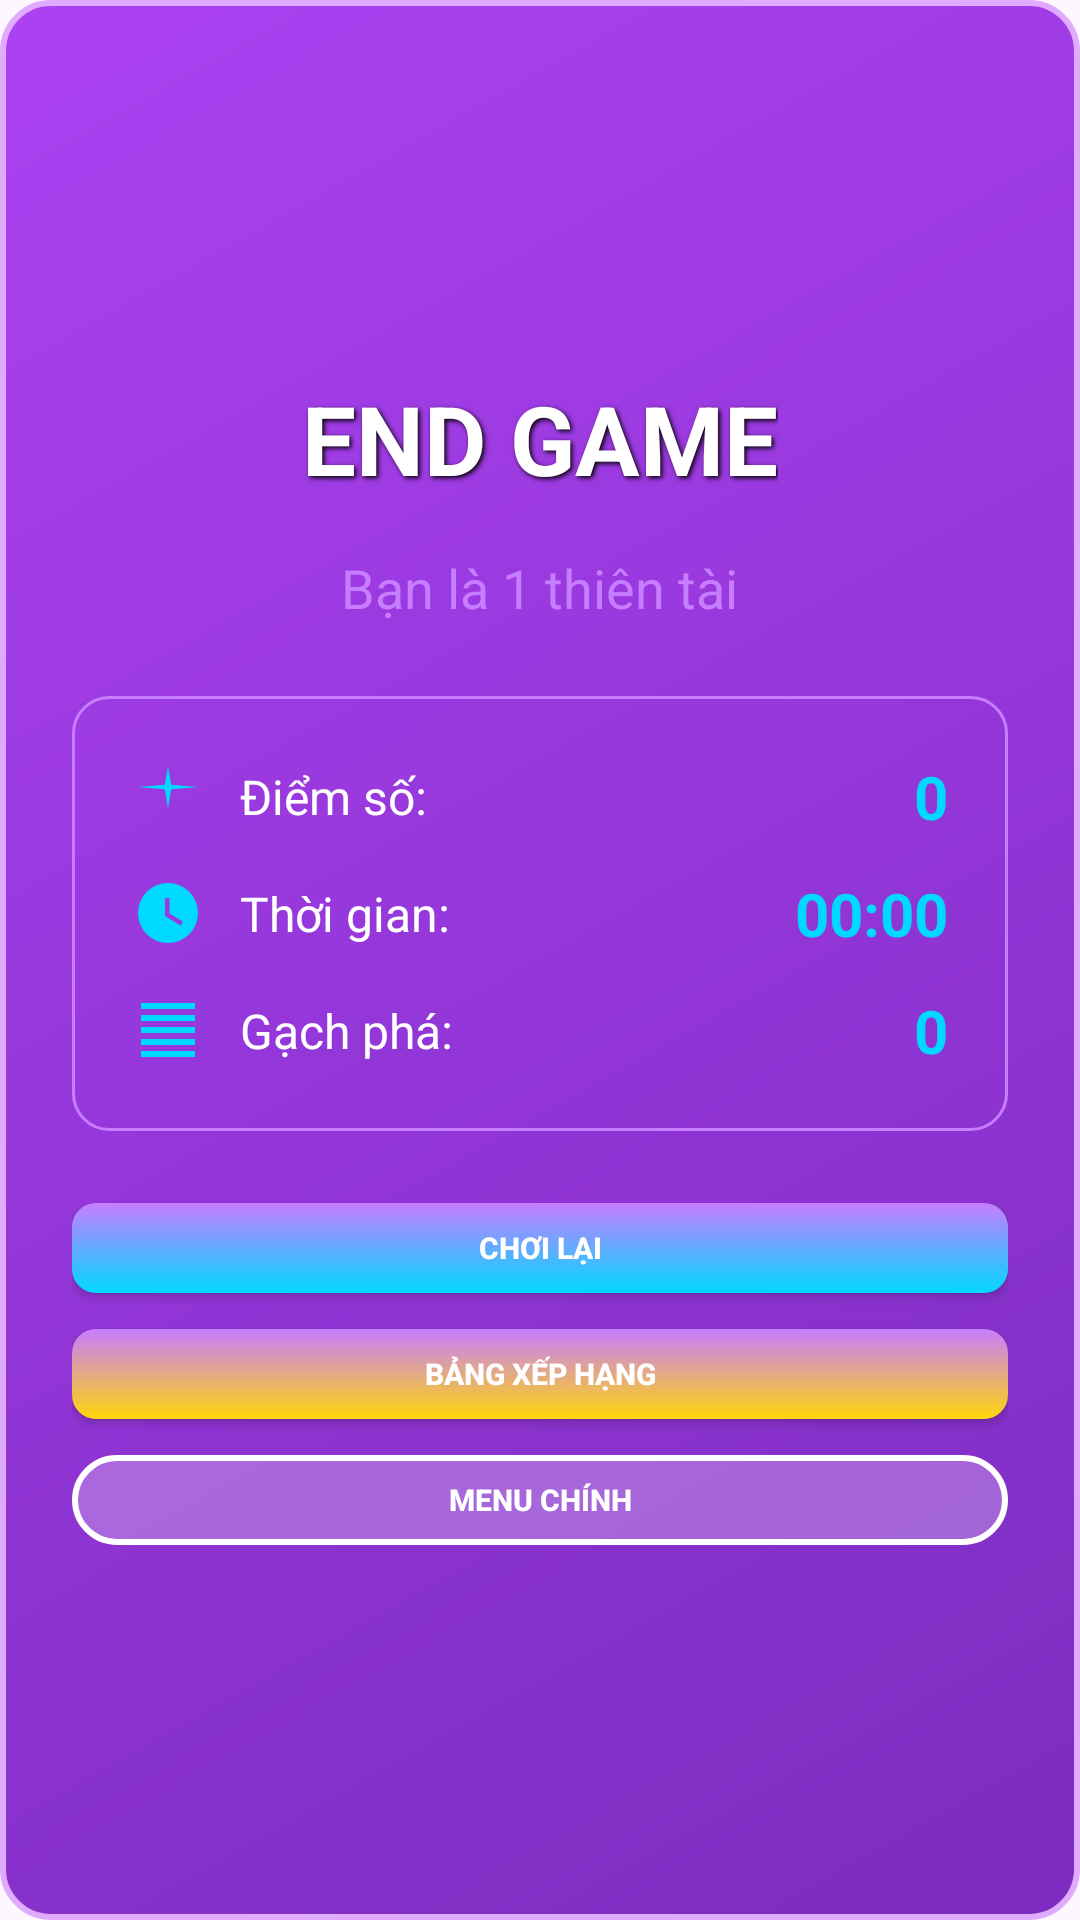

Icon bounding boxes for this 1080*1920 phone screenshot, format [x1=x1, y1=y1, x2=x2, y2=y2]:
brick: [x1=141, y1=1003, x2=195, y2=1057]
score: [x1=140, y1=767, x2=196, y2=807]
time: [x1=138, y1=883, x2=198, y2=943]
